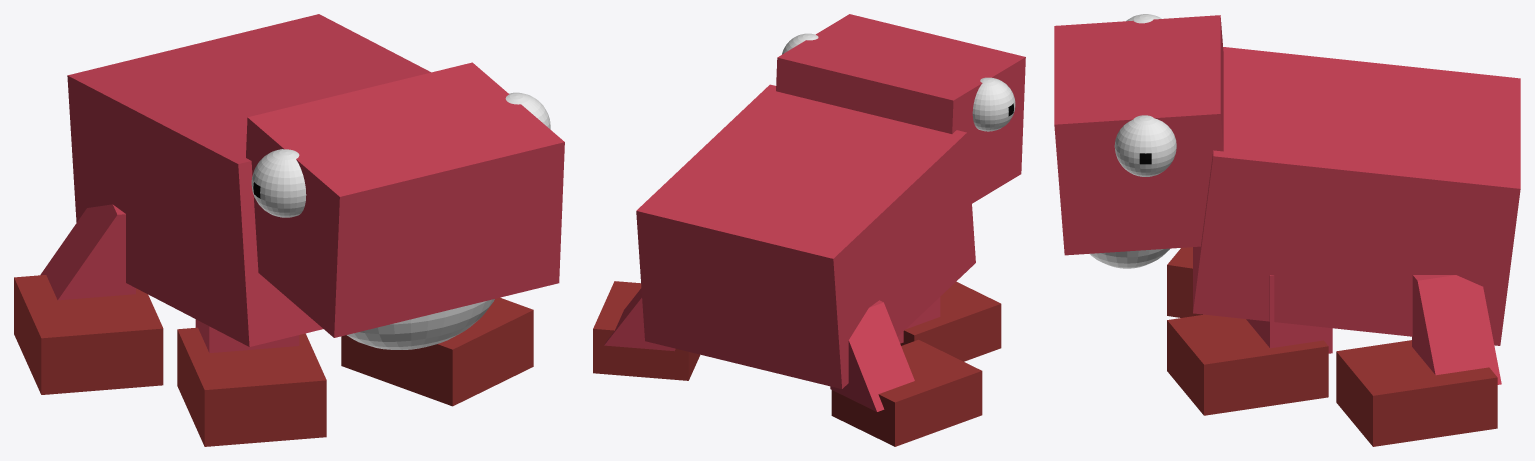
File: Hop Scorch.fbx
3 views of the same model, side by side, from view 1: azimuth 30°, elevation 25°; view 2: azimuth 150°, elevation 25°; view 3: azimuth 270°, elevation 25° (orthographic). The views are drawn at different scales.
Visible parts, largest first — view 1: Cube, Cube.009, Sphere, Sphere.002, Sphere.001; view 2: Cube, Cube.009, Sphere.002; view 3: Cube, Cube.009, Sphere.001, Sphere.
Boxes of the visible parts, bbox=[...] form: Cube: bbox=[14, 14, 533, 446]; Cube.009: bbox=[246, 62, 564, 337]; Sphere: bbox=[347, 299, 494, 349]; Sphere.002: bbox=[251, 149, 306, 217]; Sphere.001: bbox=[505, 92, 550, 129]; Cube: bbox=[593, 84, 1001, 446]; Cube.009: bbox=[776, 14, 1025, 203]; Sphere.002: bbox=[972, 77, 1015, 131]; Cube: bbox=[1167, 47, 1520, 446]; Cube.009: bbox=[1054, 15, 1223, 255]; Sphere.001: bbox=[1114, 115, 1176, 176]; Sphere: bbox=[1089, 248, 1169, 268].
Bounding box in the file's own units: 373 × 236 × 357.
